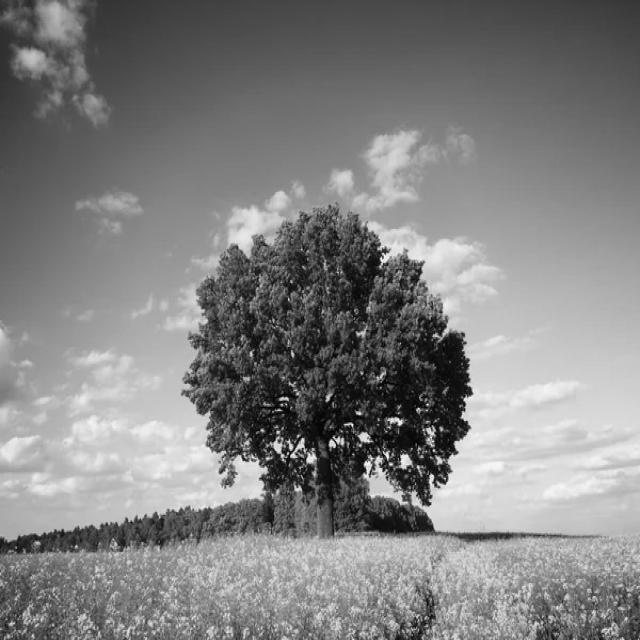Tree: (183, 205, 472, 538)
